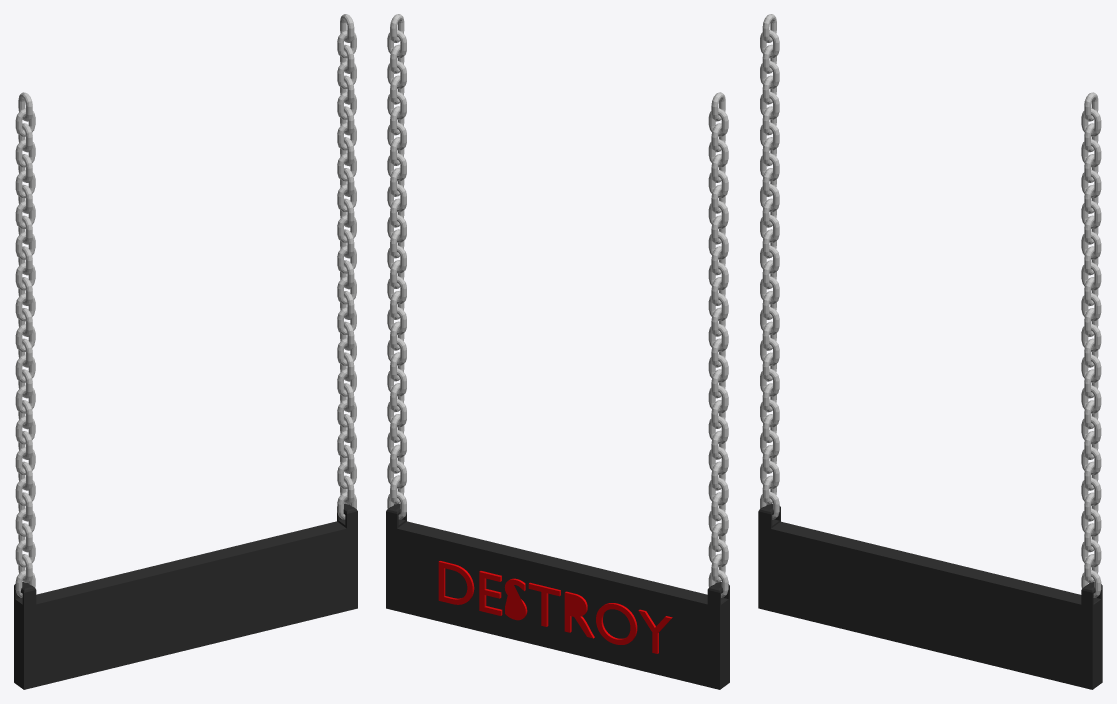
File: destroy.fbx
The picture shows the model from 3 angles, left to right: view 1: azimuth 30°, elevation 25°; view 2: azimuth 150°, elevation 25°; view 3: azimuth 330°, elevation 25°; orthographic projection.
Visible parts, largest first — view 1: Cube, Torus.001, Torus; view 2: Cube, Torus.001, Torus, Text; view 3: Cube, Torus, Torus.001.
Part boxes in pixels (bbox=[...]): Cube: bbox=[14, 503, 357, 689]; Torus.001: bbox=[15, 92, 35, 597]; Torus: bbox=[337, 14, 356, 519]; Cube: bbox=[386, 503, 729, 689]; Torus.001: bbox=[708, 92, 728, 597]; Torus: bbox=[387, 14, 406, 519]; Text: bbox=[438, 561, 672, 653]; Cube: bbox=[758, 503, 1102, 689]; Torus: bbox=[1081, 92, 1101, 597]; Torus.001: bbox=[760, 14, 779, 519].
Size of the model in its own units: 624 by 1036 by 38.8.
